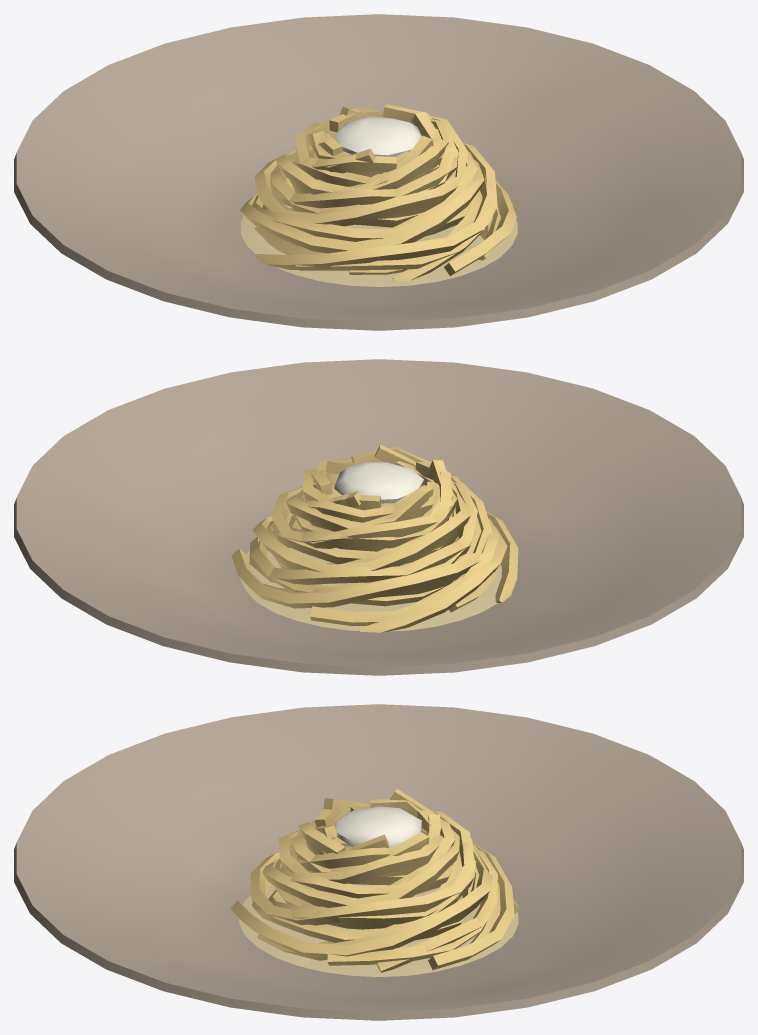
File: dish-cacio-e-pepe-lod1.glb
3 views of the same model, one above another, from view 1: azimuth 30°, elevation 25°; view 2: azimuth 150°, elevation 25°; view 3: azimuth 270°, elevation 25° (orthographic).
Parts seen in each view (by area): view 1: cacio-e-pepe.lod1__table warm glaze, cacio-e-pepe.lod1__food glaze, cacio-e-pepe.lod1__food; view 2: cacio-e-pepe.lod1__table warm glaze, cacio-e-pepe.lod1__food glaze, cacio-e-pepe.lod1__food; view 3: cacio-e-pepe.lod1__table warm glaze, cacio-e-pepe.lod1__food glaze, cacio-e-pepe.lod1__food.
Boxes of the visible parts, x1,y1,x2,y2 form: cacio-e-pepe.lod1__table warm glaze: (14,14,743,330); cacio-e-pepe.lod1__food glaze: (239,104,517,286); cacio-e-pepe.lod1__food: (334,116,421,156); cacio-e-pepe.lod1__table warm glaze: (14,359,743,675); cacio-e-pepe.lod1__food glaze: (231,444,518,632); cacio-e-pepe.lod1__food: (334,462,423,503); cacio-e-pepe.lod1__table warm glaze: (14,704,743,1020); cacio-e-pepe.lod1__food glaze: (230,789,520,976); cacio-e-pepe.lod1__food: (336,806,421,847).
Bounding box in the file's own units: 0.26 × 0.0541 × 0.2586.
